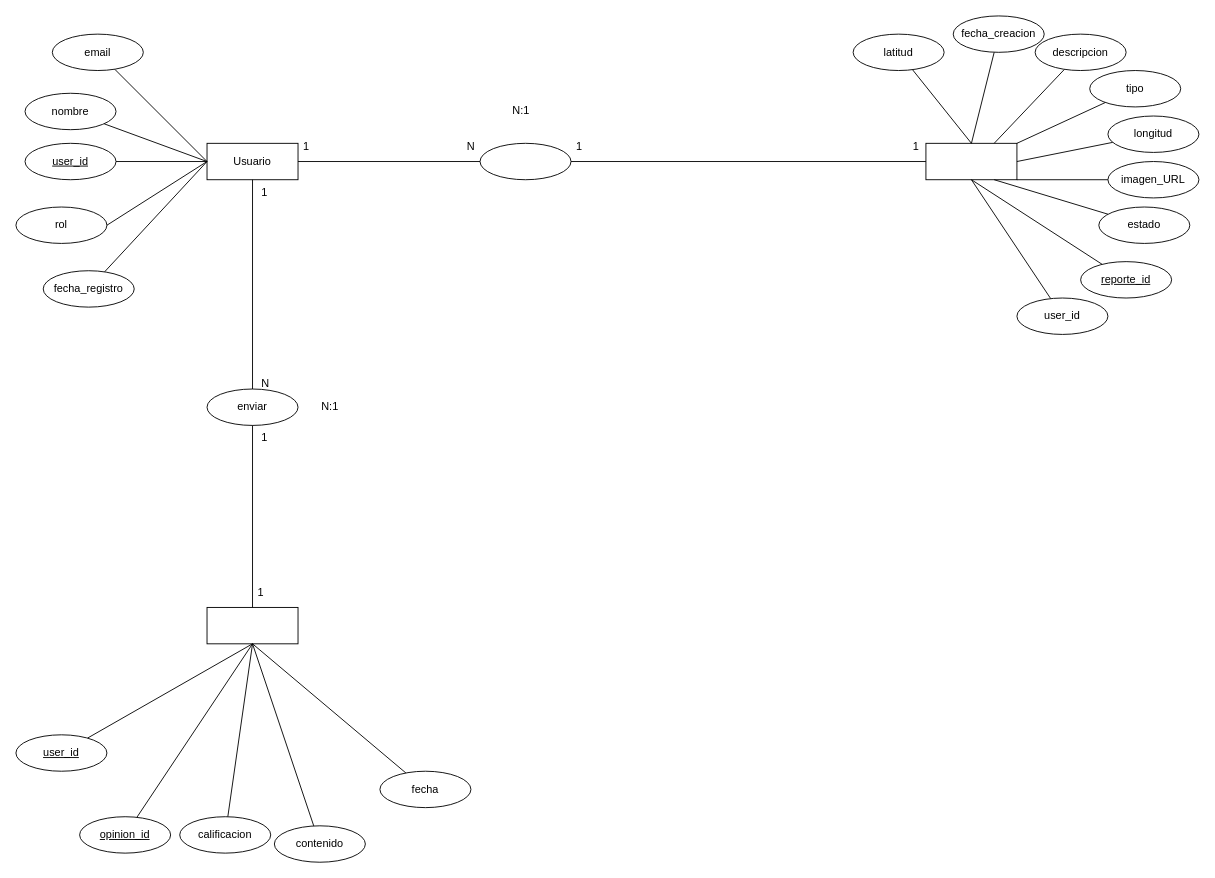
Image size: 1215x878. Some labels were removed from this diagram. Each missing label, with the centre of its shape:
"crear" belongs at (525,161).
"Opinion" belongs at (252,625).
"Reporte" belongs at (971,161).
